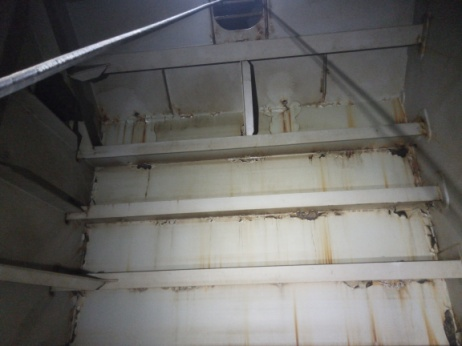corrosion: (316, 148, 378, 169), (74, 223, 96, 277), (414, 201, 437, 251), (63, 298, 90, 339), (282, 209, 347, 223), (434, 316, 462, 346), (361, 314, 389, 343), (82, 110, 110, 139), (118, 118, 150, 143), (380, 282, 414, 305), (123, 157, 167, 174), (319, 228, 339, 265), (83, 163, 102, 198), (278, 104, 301, 129), (382, 101, 409, 120), (380, 202, 405, 222), (386, 136, 411, 155), (339, 104, 357, 128)
